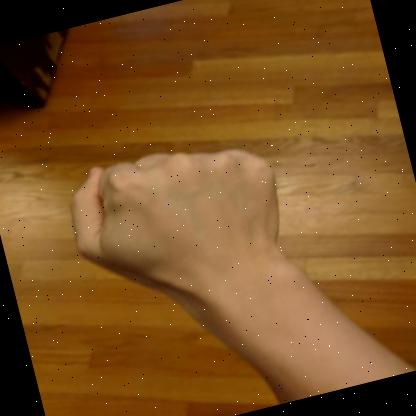A: (70, 148, 301, 297)
